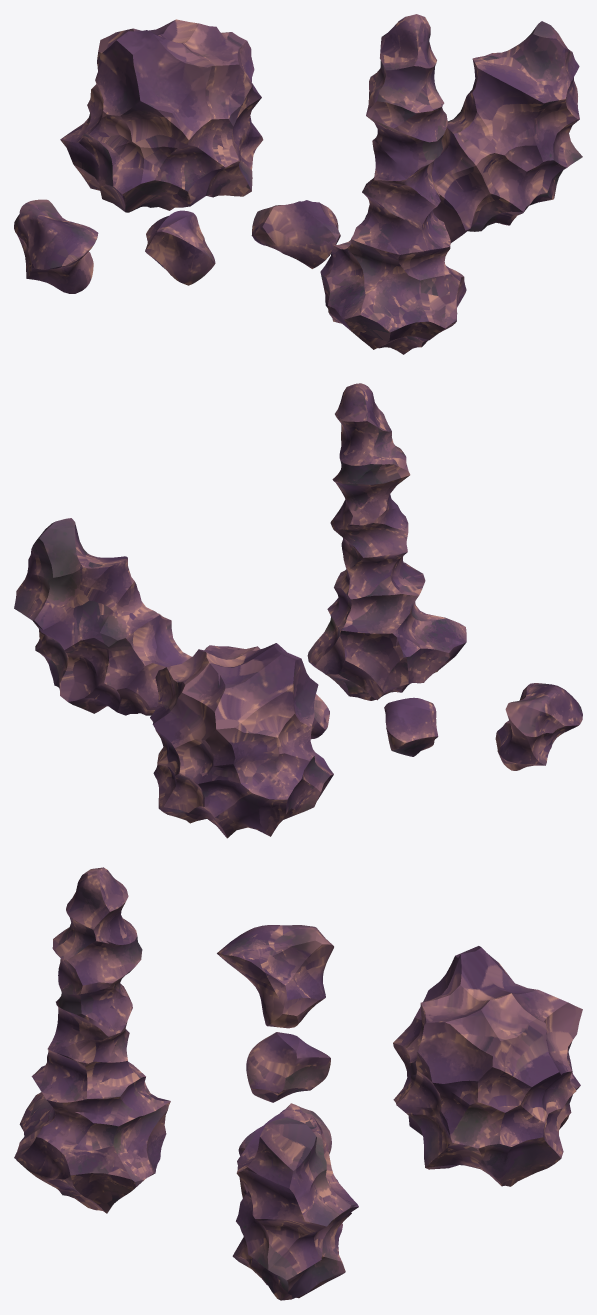
The model's file is rocksuv.fbx.
The picture shows the model from 3 angles, top to bottom: view 1: azimuth 30°, elevation 25°; view 2: azimuth 150°, elevation 25°; view 3: azimuth 270°, elevation 25°; orthographic projection. The views are drawn at different scales.
Parts seen in each view (by area): view 1: Cube.005, Cube.004, Cube.001, Cube.003, Cube, Cube.002; view 2: Cube.005, Cube.004, Cube.001, Cube.003, Cube.002; view 3: Cube.005, Cube.004, Cube.001, Cube.003, Cube.002, Cube.
Boxes of the visible parts, x1,y1,x2,y2 form: Cube.005: (60, 19, 263, 212); Cube.004: (320, 14, 466, 354); Cube.001: (432, 21, 582, 242); Cube.003: (14, 199, 98, 293); Cube: (251, 200, 340, 268); Cube.002: (145, 210, 215, 285); Cube.005: (150, 643, 333, 838); Cube.004: (307, 383, 466, 700); Cube.001: (14, 518, 191, 715); Cube.003: (495, 683, 582, 770); Cube.002: (384, 697, 438, 756); Cube.005: (393, 946, 582, 1186); Cube.004: (14, 867, 170, 1213); Cube.001: (232, 1110, 358, 1300); Cube.003: (217, 925, 333, 1028); Cube.002: (246, 1032, 330, 1102); Cube: (238, 1103, 331, 1155).
Size of the model in its own units: 1927 by 1077 by 1598.
